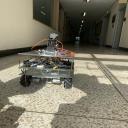cart: (17, 52, 75, 89)
